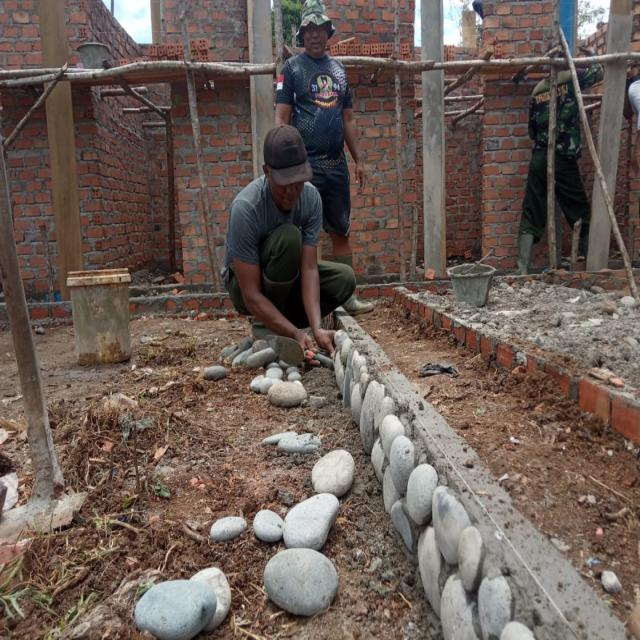Pecahan Agregat: (297, 281, 574, 640)
